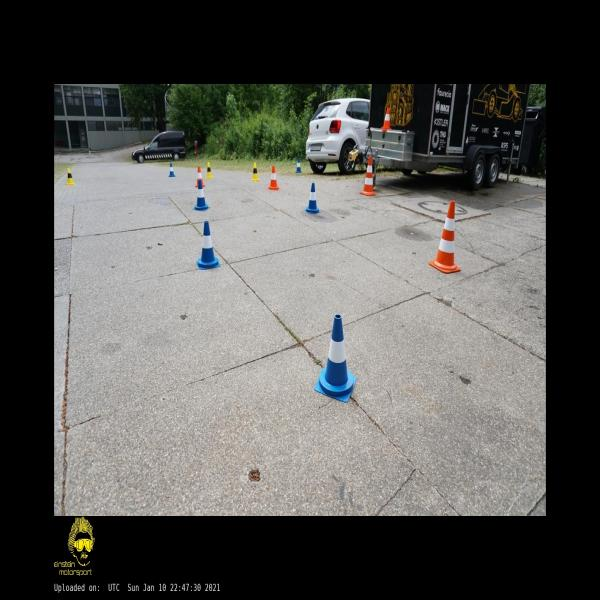blue_cone: (314, 314, 357, 402), (196, 221, 220, 270), (194, 180, 209, 211), (306, 183, 320, 214), (168, 163, 176, 177), (296, 158, 301, 173)
large_orange_cone: (430, 201, 461, 274), (360, 156, 376, 195)
orange_cone: (268, 166, 278, 190), (195, 166, 206, 187), (382, 108, 392, 130)
yellow_cone: (251, 162, 260, 181), (66, 168, 75, 185), (205, 162, 212, 178)
